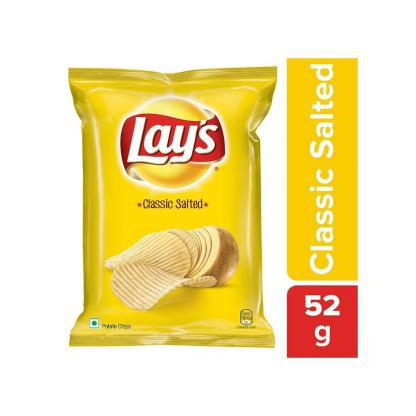classicsalted: (68, 65, 277, 349)
